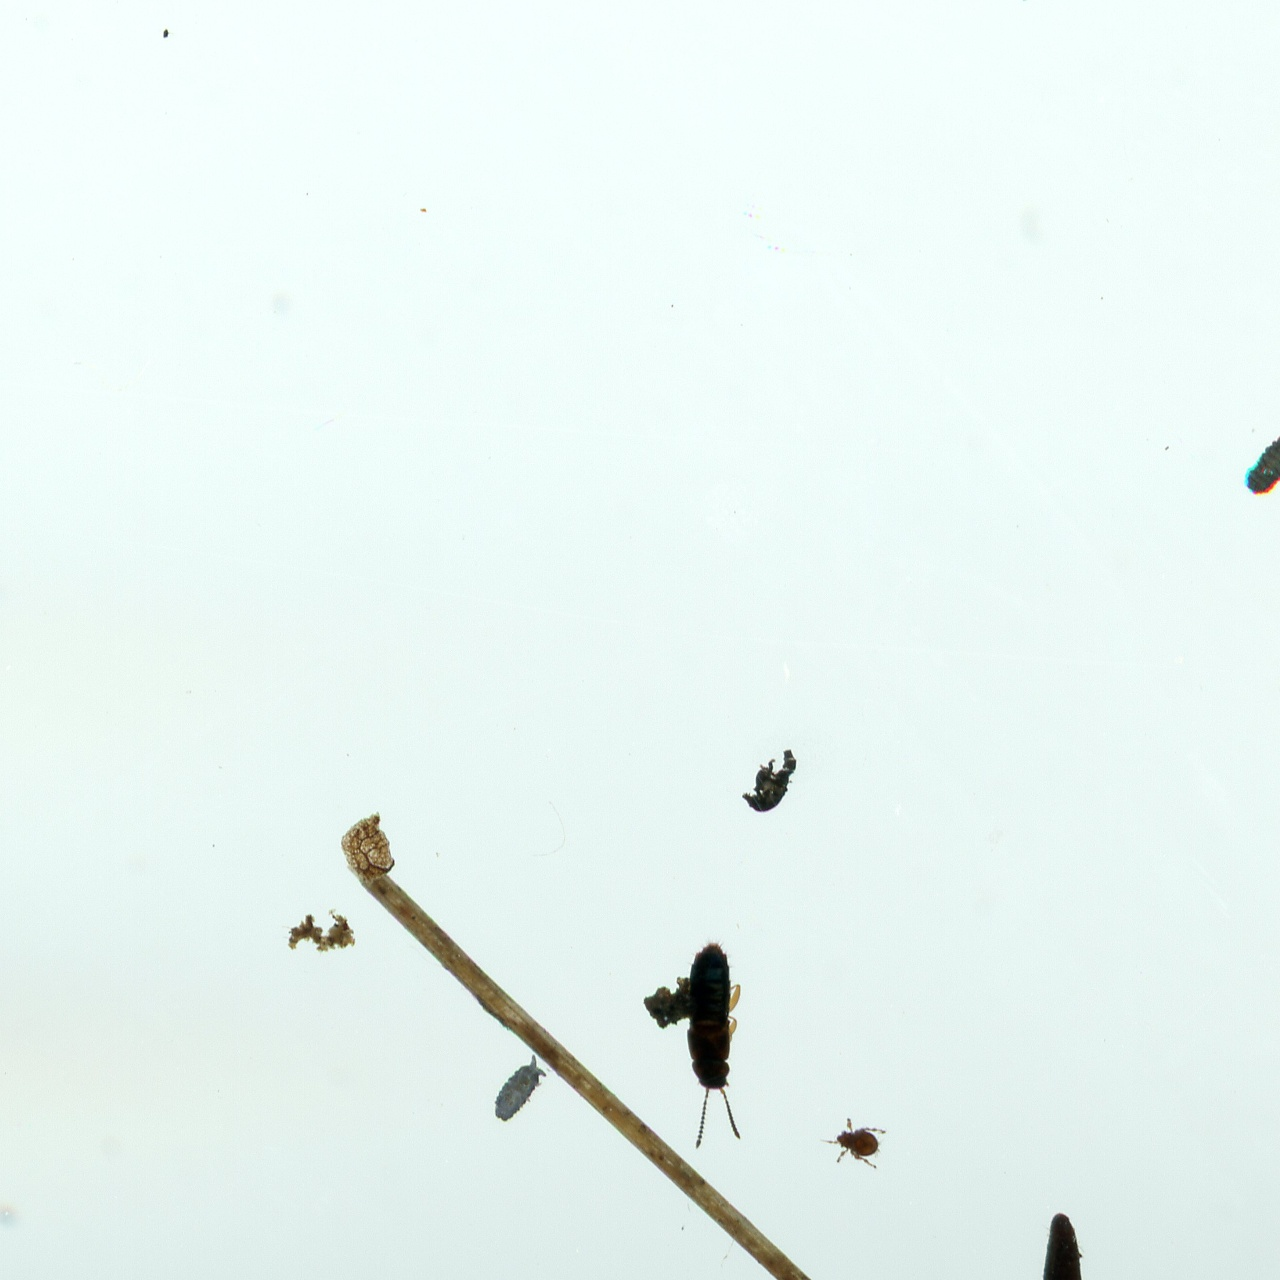arthropod: (687, 933, 742, 1148), (494, 1053, 548, 1121), (823, 1118, 887, 1170), (1241, 420, 1280, 497)
